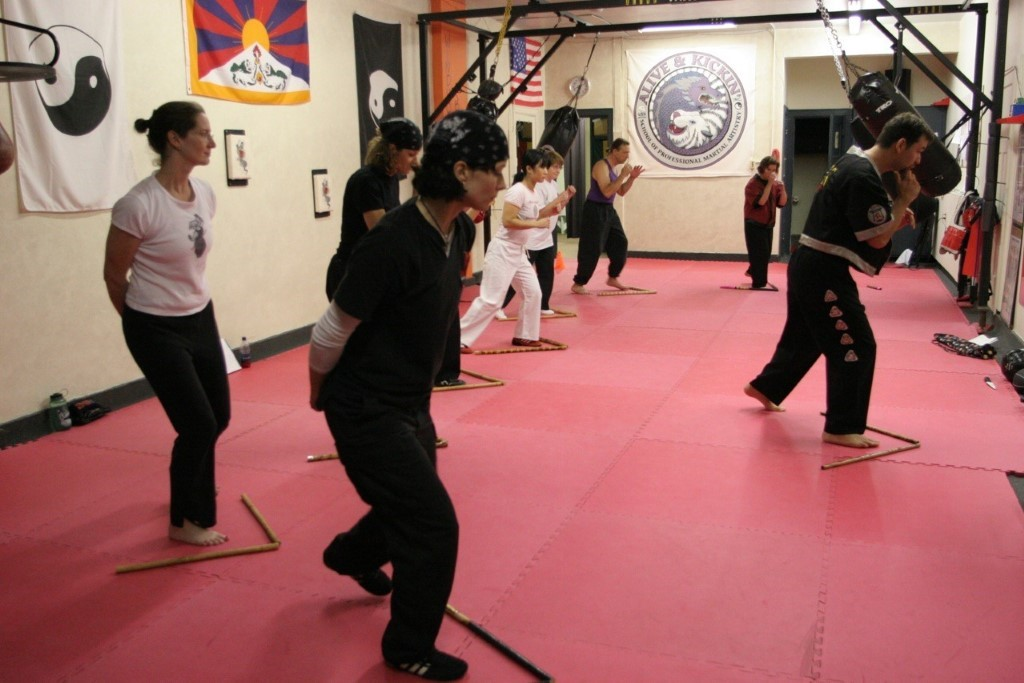baston_e: (447, 603, 541, 679), (122, 542, 273, 574), (827, 443, 917, 469), (241, 497, 279, 538), (865, 423, 913, 443), (479, 345, 562, 355), (431, 382, 497, 393), (460, 366, 499, 381), (503, 313, 574, 320), (601, 289, 652, 296), (723, 285, 773, 292), (540, 335, 562, 345)
baston_v: (542, 671, 560, 683), (438, 436, 452, 450), (111, 563, 126, 576), (269, 541, 283, 551), (271, 535, 285, 544), (304, 453, 314, 464), (239, 491, 249, 499), (914, 440, 922, 447), (818, 410, 826, 417), (473, 349, 482, 355), (494, 380, 501, 387), (499, 377, 506, 384), (819, 463, 827, 469), (912, 438, 921, 443), (562, 343, 568, 350), (651, 288, 658, 294), (772, 286, 778, 292), (596, 291, 603, 296), (572, 311, 577, 317), (719, 285, 723, 289)
